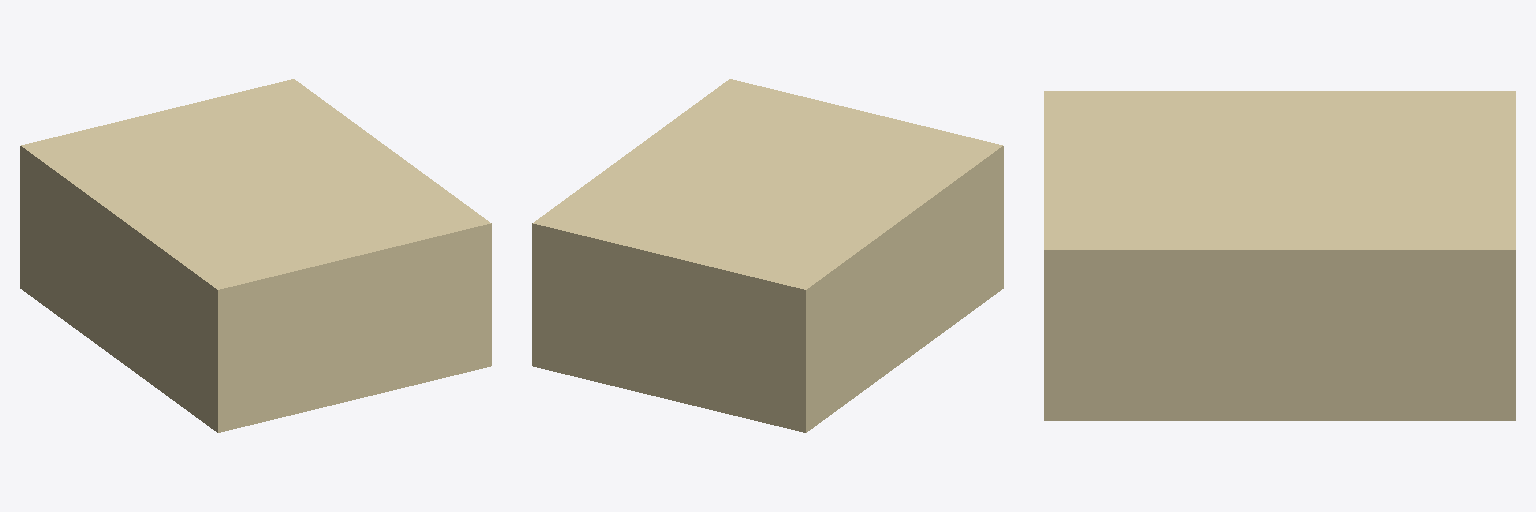
robot.urdf — box.urdf:
<?xml version="1.0" ?>
<robot name="box.urdf">
  <link name="baseLink">
    <contact>
      <lateral_friction value="1.0"/>
      <rolling_friction value="0.0001"/>
      <inertia_scaling value="3.0"/>
    </contact>
    <inertial>
      <origin rpy="0 0 0" xyz="0 0 0"/>
       <mass value="0.1"/>
       <inertia ixx="1" ixy="0" ixz="0" iyy="1" iyz="0" izz="1"/>
    </inertial>
    <visual>
      <origin rpy="0 0 0" xyz="0 0 0"/>
      <geometry>
        <!-- <box size="0.32 0.4 0.16"/> -->
        <mesh filename="box/box.obj" scale="0.32 0.4 0.16"/>
      </geometry>
      <material name="white">
        <color rgba="0.9 0.85 0.7 1"/>
      </material>
    </visual>
    <collision>
      <origin rpy="0 0 0" xyz="0 0 0"/>
      <geometry>
        <mesh filename="box/box.obj" scale="0.32 0.4 0.16"/>
	 	    <!-- <box size="0.32 0.4 0.16"/> -->
      </geometry>
    </collision>
  </link>
</robot>

--- Facts derived from the render (not from the file) ---
The picture shows the robot from 3 angles, left to right: view 1: azimuth 30°, elevation 25°; view 2: azimuth 150°, elevation 25°; view 3: azimuth 270°, elevation 25°; orthographic projection.
Model box.urdf with 1 links and 0 joints (none), rooted at baseLink, posed all joints at 0.
Visible links, largest first — view 1: baseLink; view 2: baseLink; view 3: baseLink.
Link boxes in pixels (box(x1,y1,x2,y2)): baseLink: box(20, 79, 491, 432); baseLink: box(532, 79, 1003, 432); baseLink: box(1044, 91, 1515, 420).
Bounding box of the posed robot: 0.32 × 0.4 × 0.16 m (x, y, z).
1 mesh visuals loaded from 1 distinct referenced files (1 OBJ).
